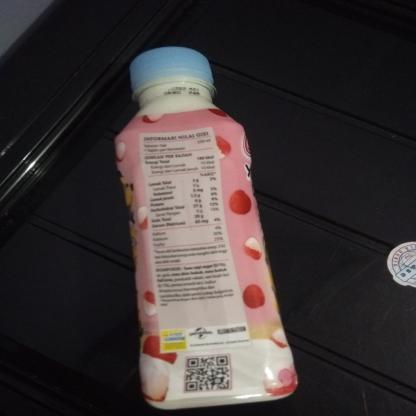bottle: (107, 43, 304, 411)
